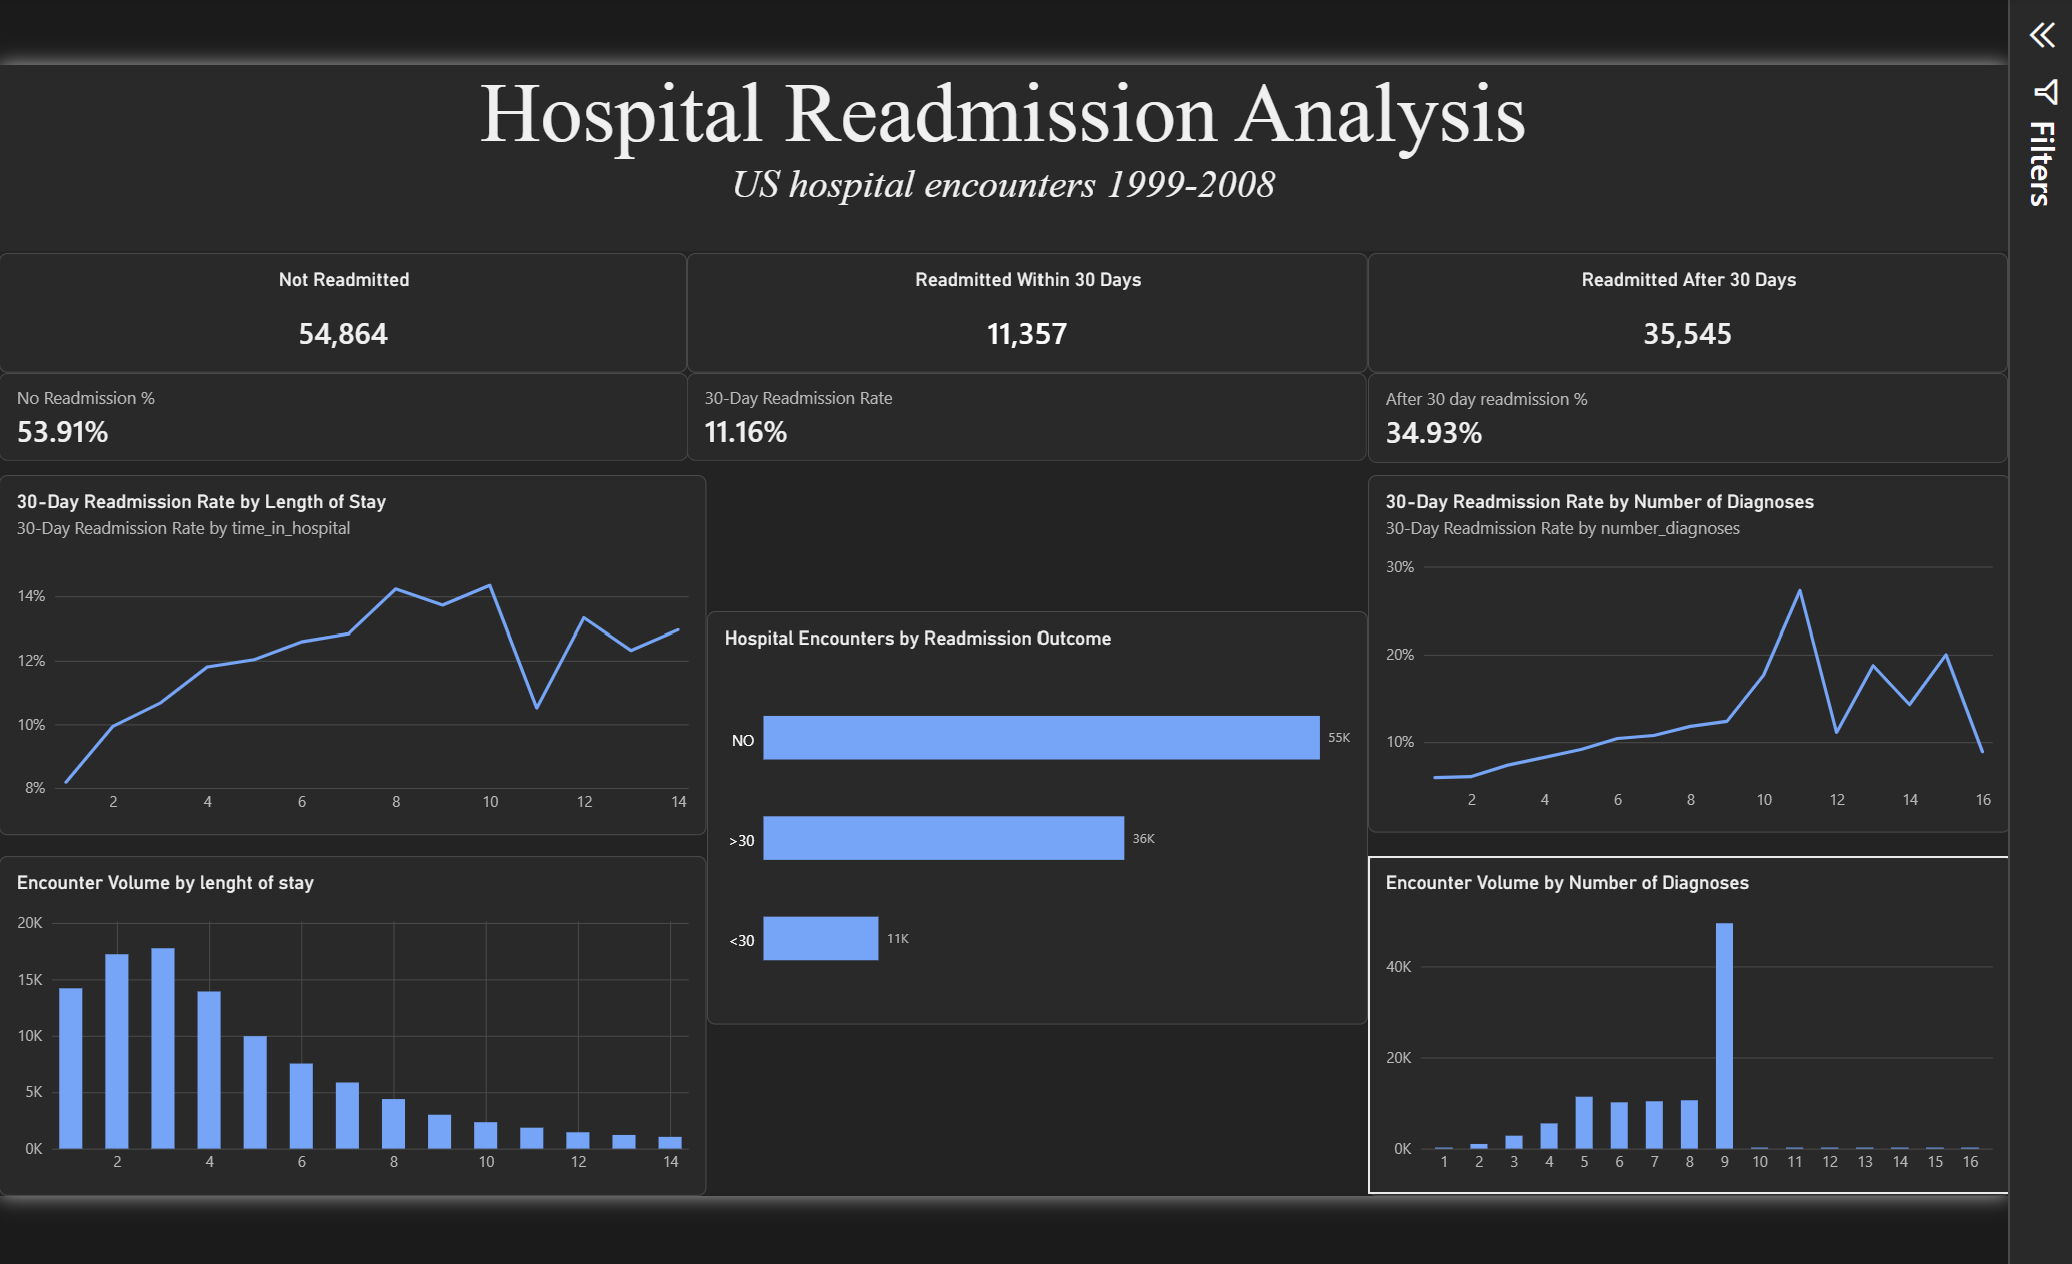

The page's visual inventory and layout, read from the dashboard file:
{"tool":"powerbi","page":{"name":"readmission initial analysis","canvas":[1920,1080],"ordinal":0},"visuals":[{"type":"clusteredBarChart","title":"Hospital Encounters by Readmission Outcome","fields":{"Category":["Sheet1.readmitted"],"Y":["Count(Sheet1.encounter_id)"]},"box":[676.3,522.1,631.1,394.7],"z":0},{"type":"kpi","title":"Readmitted Within 30 Days","fields":{"Indicator":["Count(Sheet1.encounter_id)"],"TrendLine":["Sheet1.readmitted"]},"box":[657.8,178.8,650.2,114.7],"z":1000},{"type":"kpi","title":"Readmitted After 30 Days","fields":{"Indicator":["CountNonNull(Sheet1.encounter_id)"],"TrendLine":["Sheet1.readmitted"]},"box":[1307.4,178.8,612,114.7],"z":2000},{"type":"kpi","title":"Not Readmitted","fields":{"Indicator":["CountNonNull(Sheet1.encounter_id)"],"TrendLine":["Sheet1.readmitted"]},"box":[0,178.8,657.8,114.7],"z":3000},{"type":"lineChart","title":"30-Day Readmission Rate by Length of Stay","fields":{"Category":["Sheet1.time_in_hospital"],"Y":["Sheet1.30-Day Readmission Rate"]},"box":[0,392.6,676.3,343.3],"z":4000},{"type":"clusteredColumnChart","title":"Encounter Volume by lenght of stay","fields":{"Category":["Sheet1.time_in_hospital"],"Y":["Count(Sheet1.encounter_id)"]},"box":[0,754.4,676.3,324.8],"z":5000},{"type":"lineChart","title":"30-Day Readmission Rate by Number of Diagnoses","fields":{"Category":["Sheet1.number_diagnoses"],"Y":["Sheet1.30-Day Readmission Rate"]},"box":[1307.4,392.6,614.6,341.2],"z":6000},{"type":"clusteredColumnChart","title":"Encounter Volume by Number of Diagnoses","fields":{"Category":["Sheet1.number_diagnoses"],"Y":["Count(Sheet1.encounter_id)"]},"box":[1307.4,754.4,614.6,324.8],"z":7000},{"type":"textbox","box":[0,0,1920,177.8],"z":8000},{"type":"cardVisual","fields":{"Data":["Sheet1.30-Day Readmission Rate"]},"box":[657.8,294,649.6,84.3],"z":8001},{"type":"cardVisual","fields":{"Data":["Sheet1.After 30 day readmission %"]},"box":[1307.4,294,612.6,86.3],"z":8002},{"type":"cardVisual","fields":{"Data":["Sheet1.No Readmission %"]},"box":[0,294,659.9,84.3],"z":8003}]}

Visuals, with their boxes on the page's 1920x1080 design canvas (x1, y1, x2, y2). These are canvas units, not pixel positions in the 2072x1264 screenshot, which may show the page scaled, cropped or inside an application window:
"Hospital Encounters by Readmission Outcome" clusteredBarChart: detection(676, 522, 1307, 917)
"Readmitted Within 30 Days" kpi: detection(658, 179, 1308, 294)
"Readmitted After 30 Days" kpi: detection(1307, 179, 1919, 294)
"Not Readmitted" kpi: detection(0, 179, 658, 294)
"30-Day Readmission Rate by Length of Stay" lineChart: detection(0, 393, 676, 736)
"Encounter Volume by lenght of stay" clusteredColumnChart: detection(0, 754, 676, 1079)
"30-Day Readmission Rate by Number of Diagnoses" lineChart: detection(1307, 393, 1922, 734)
"Encounter Volume by Number of Diagnoses" clusteredColumnChart: detection(1307, 754, 1922, 1079)
textbox: detection(0, 0, 1920, 178)
cardVisual - Sheet1.30-Day Readmission Rate: detection(658, 294, 1307, 378)
cardVisual - Sheet1.After 30 day readmission %: detection(1307, 294, 1920, 380)
cardVisual - Sheet1.No Readmission %: detection(0, 294, 660, 378)
